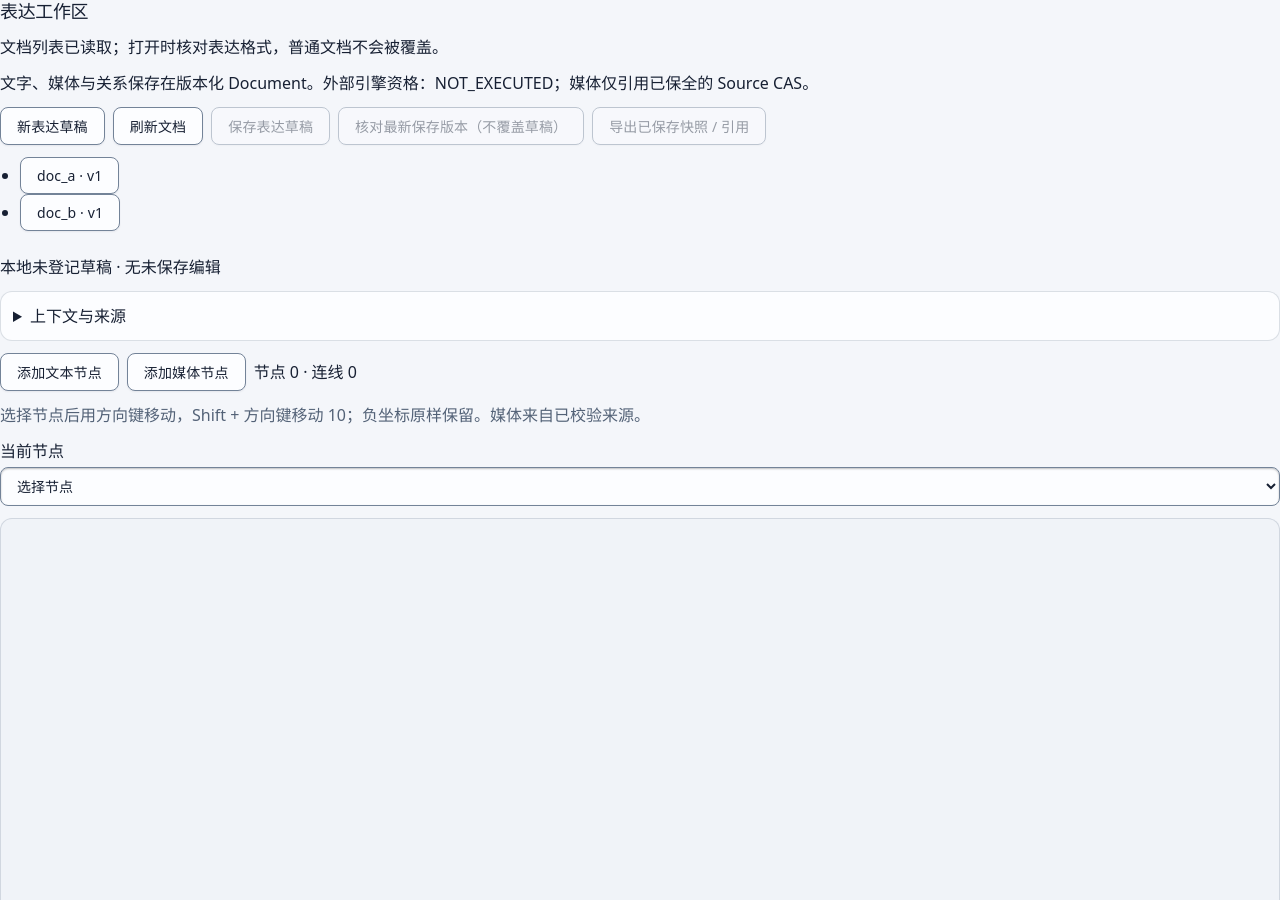
Test case: history reads saved ID/version and does not replace unsaved current board
The image size is (1280, 900).
Click the button "doc_a · v1". click: click(70, 175)
box: x1=20 y1=156 x2=120 y2=194
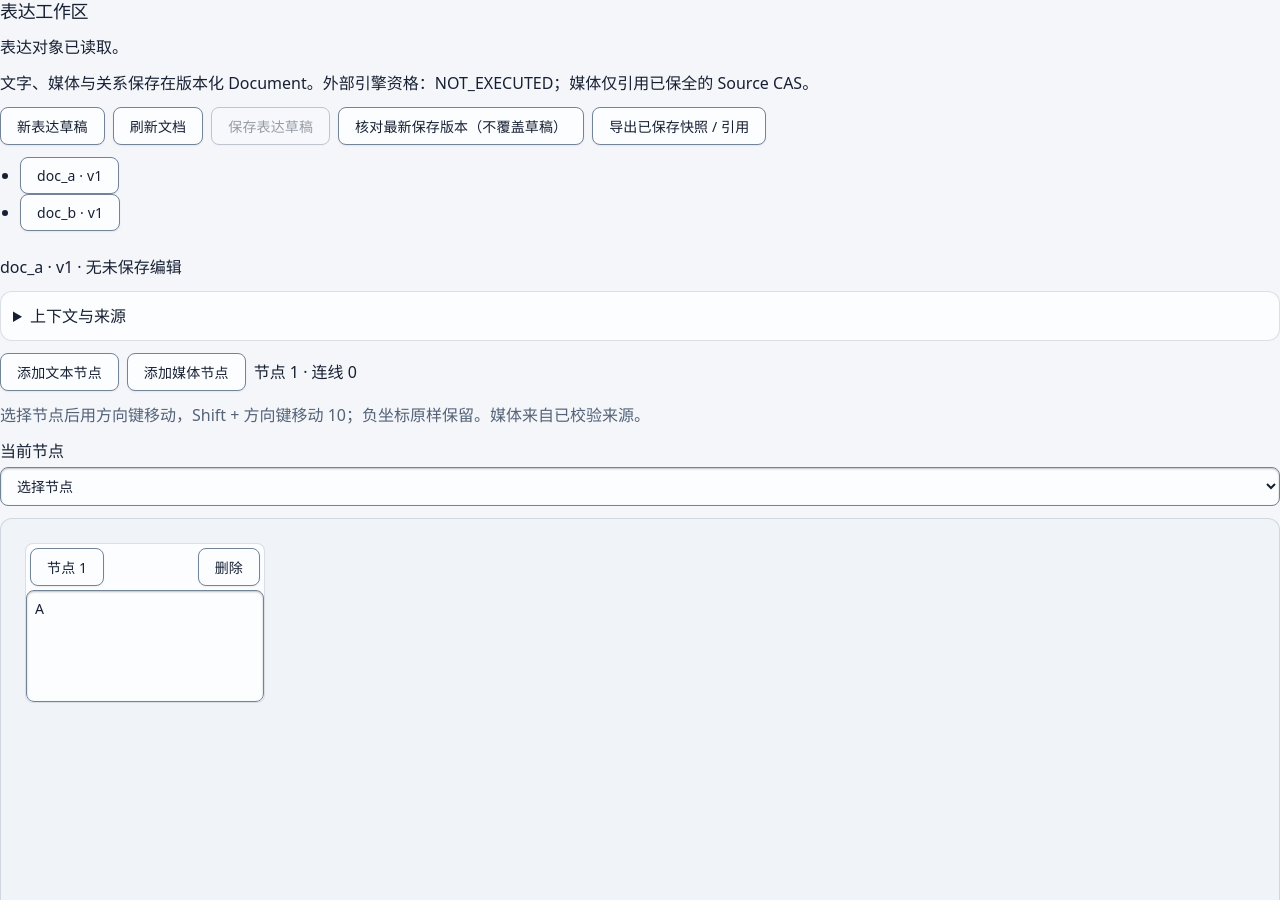
Now the text box named "节点文字 1" holds "A"
Replace the text in the text box named "节点文字 1" with "CURRENT". click: (145, 646)
box: x1=26 y1=590 x2=264 y2=702
(page scrolled)
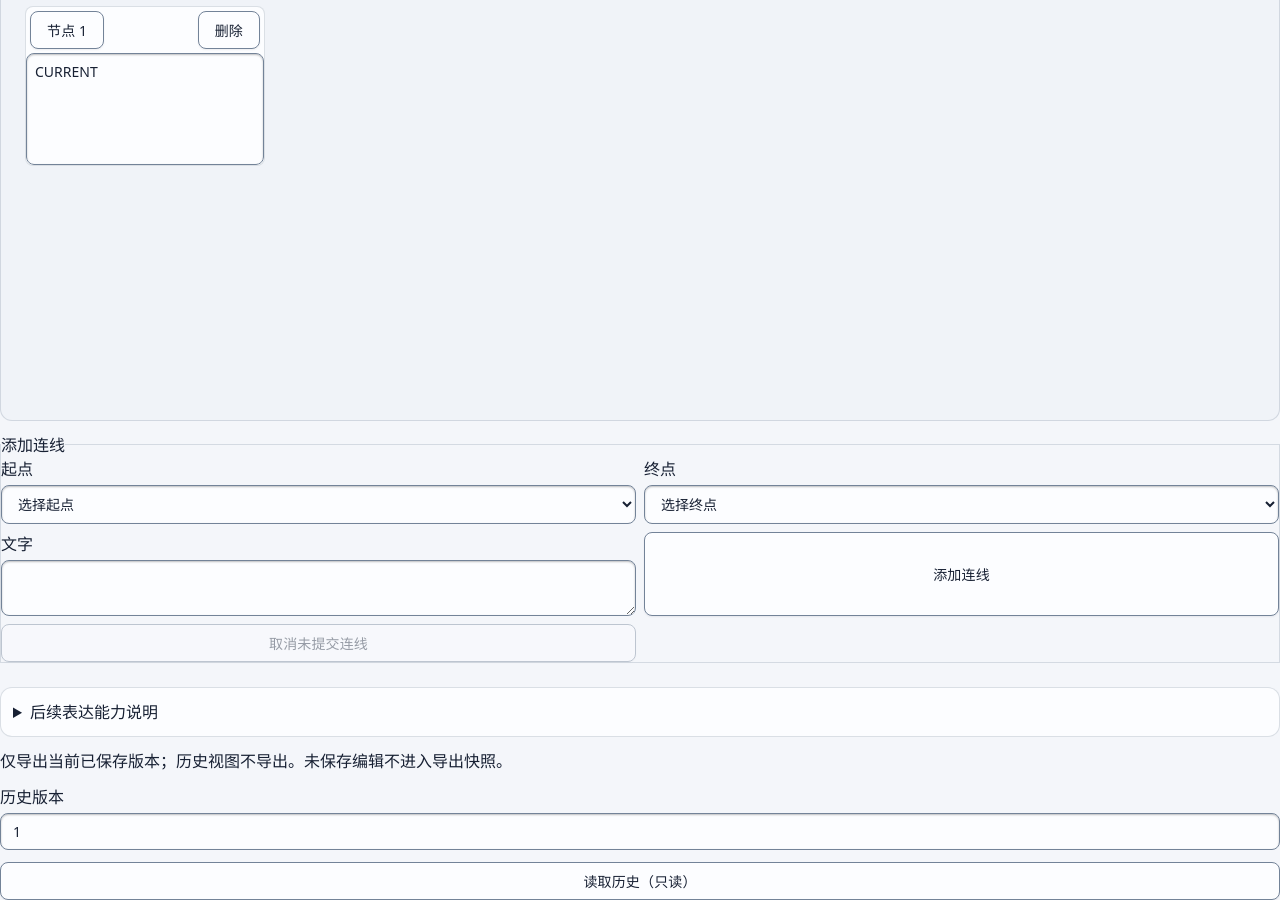
Click the button "读取历史（只读）". click: click(640, 880)
box: x1=0 y1=862 x2=1279 y2=899
(page scrolled)
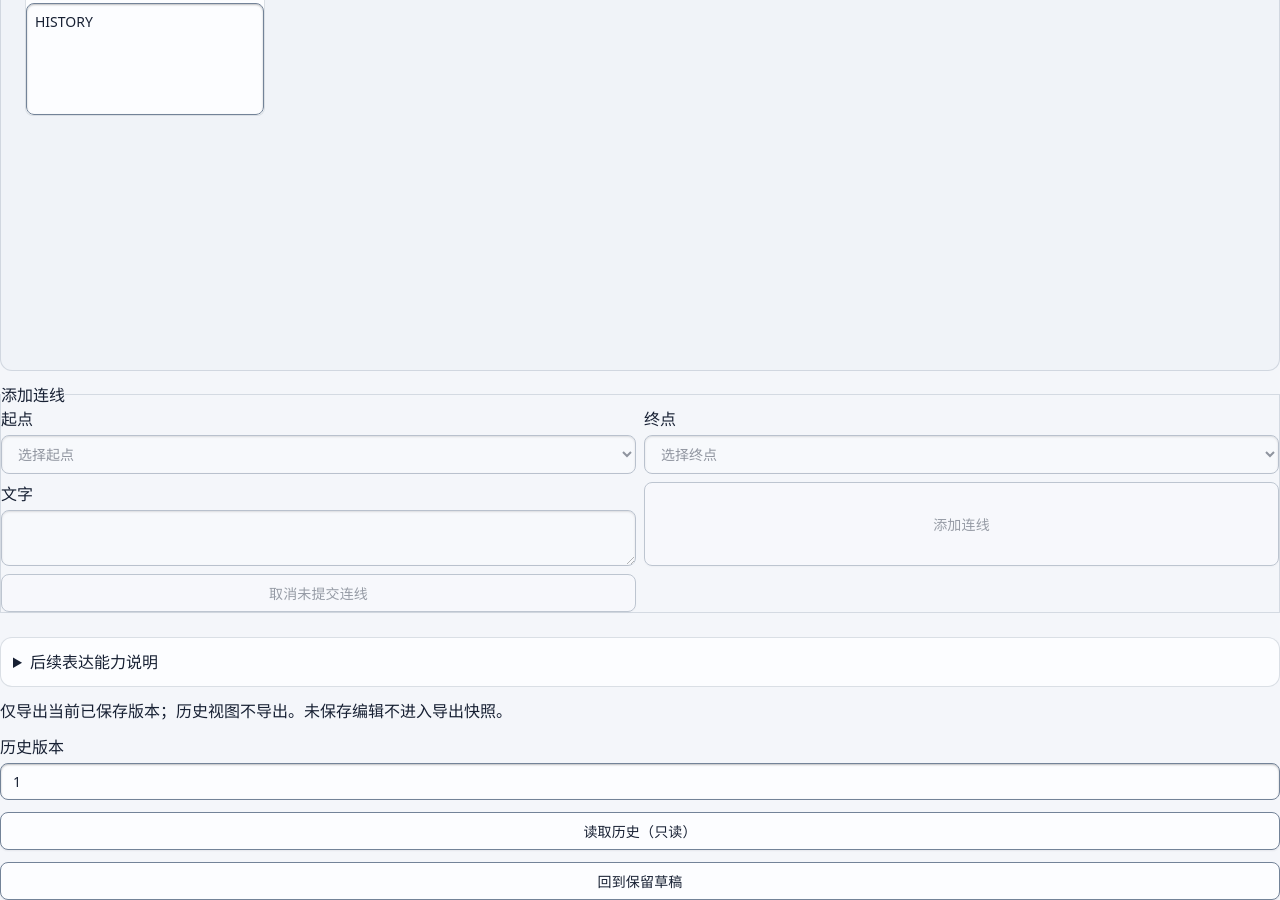
Now the text box named "节点文字 1" holds "HISTORY", box x1=26 y1=2 x2=264 y2=114
Click the button "回到保留草稿". click: click(640, 880)
box: x1=0 y1=862 x2=1279 y2=899
(page scrolled)
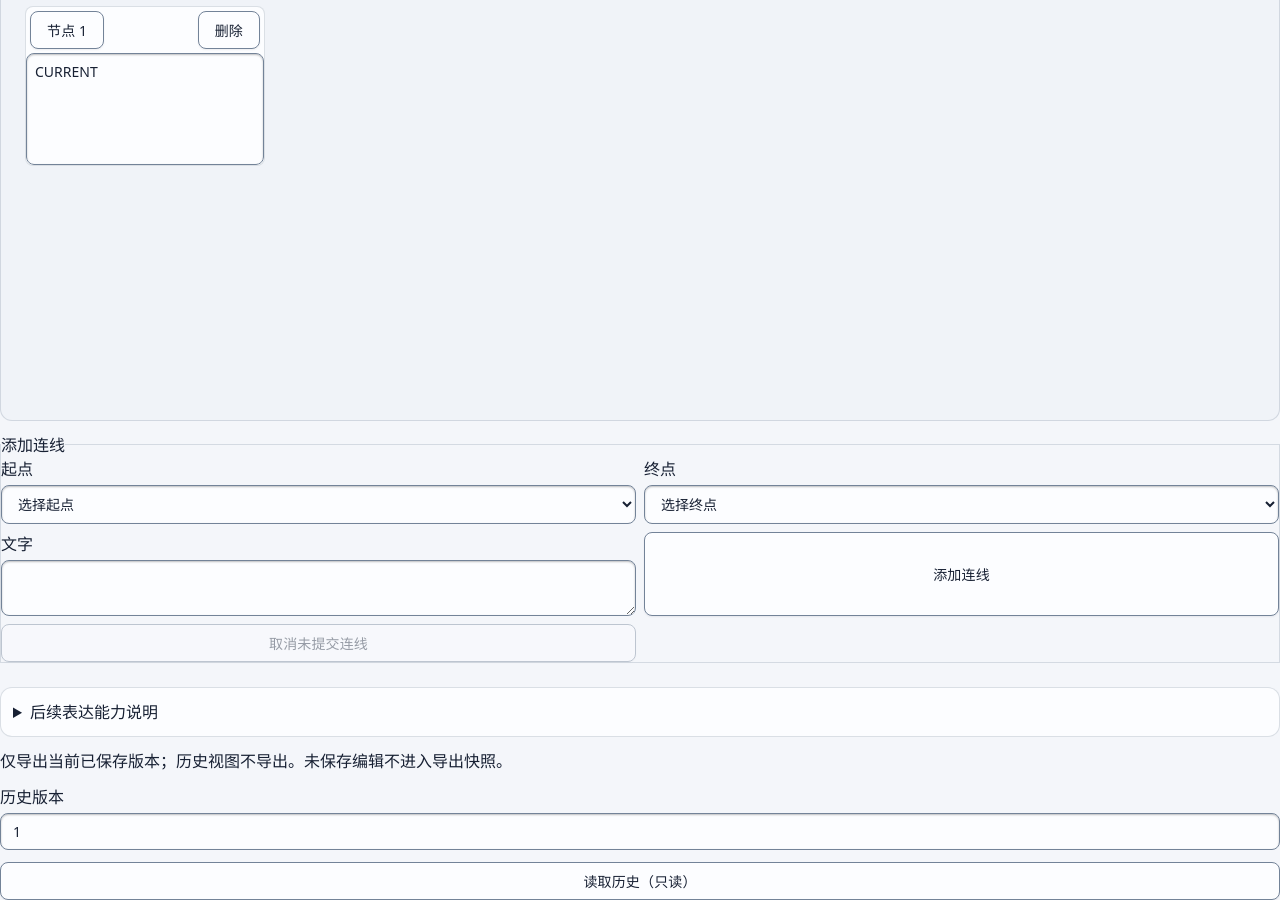
Now the text box named "节点文字 1" holds "CURRENT", box x1=26 y1=52 x2=264 y2=164
